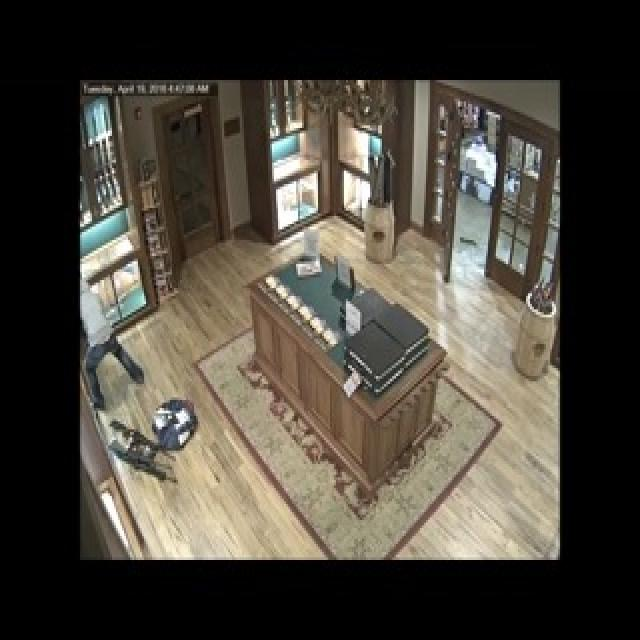thief: (82, 266, 142, 420)
